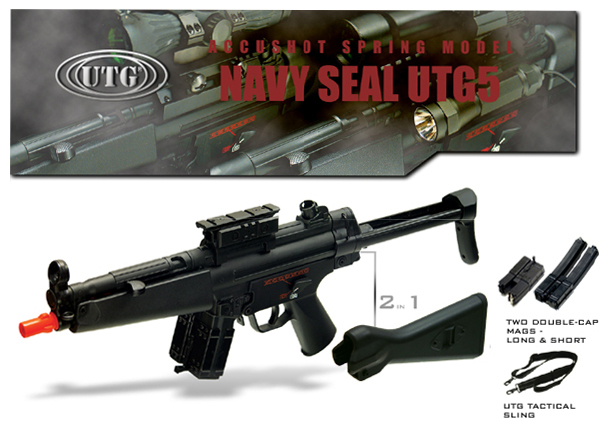rifle: (12, 187, 480, 370)
